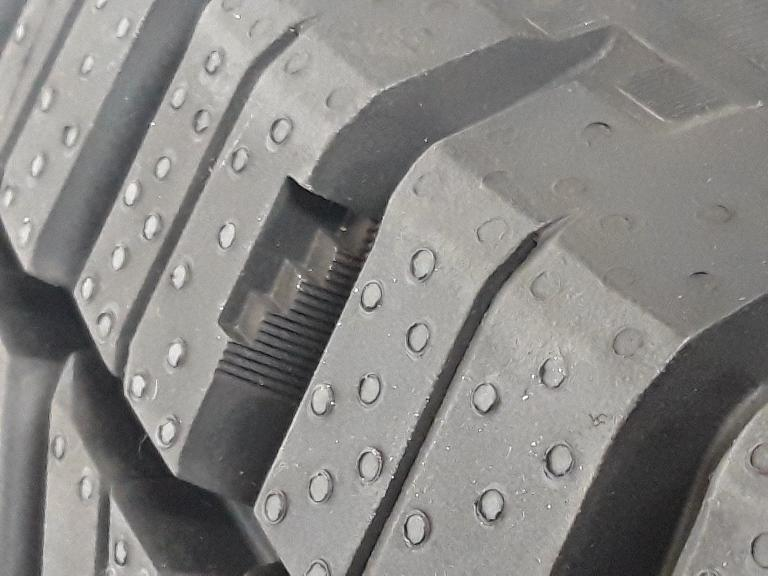temoin:100: (212, 168, 387, 406)
